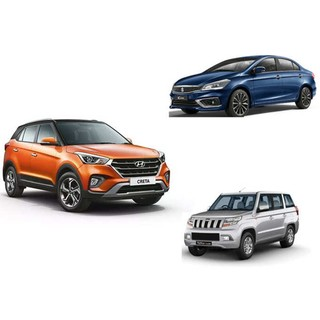car: (3, 120, 171, 212), (169, 54, 316, 117), (184, 190, 301, 259)
